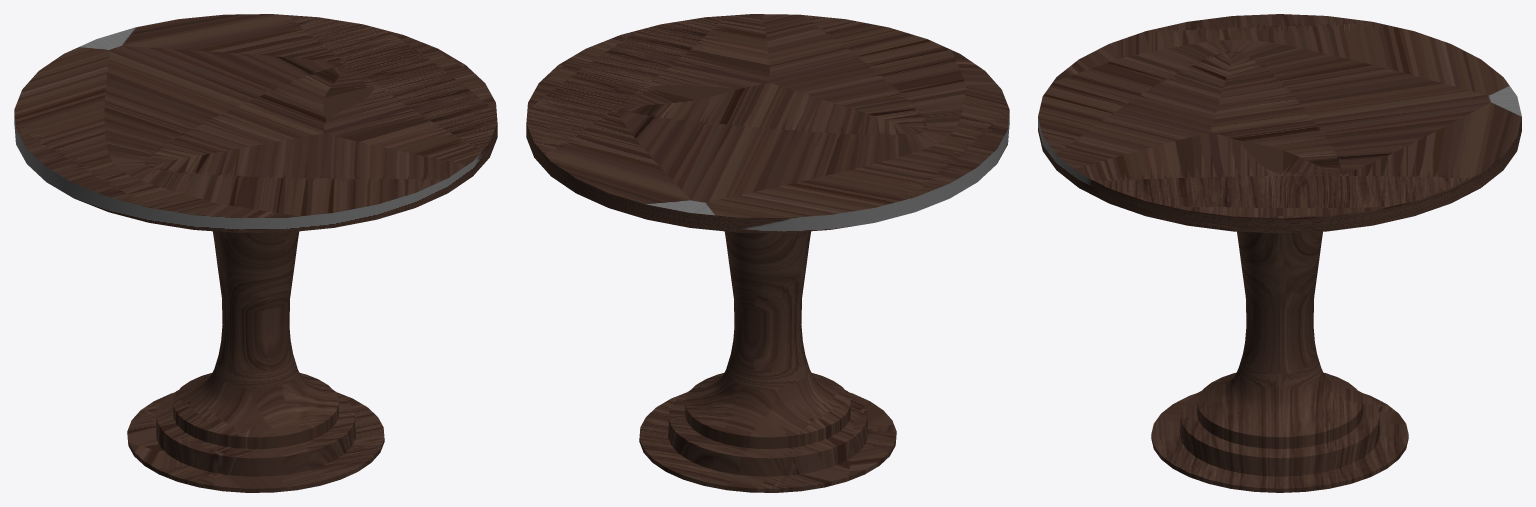
File: SmallTable.obj
3 views of the same model, side by side, from view 1: azimuth 30°, elevation 25°; view 2: azimuth 150°, elevation 25°; view 3: azimuth 270°, elevation 25° (orthographic).
Parts seen in each view (by area): view 1: Cylinder.001, Cylinder; view 2: Cylinder.001, Cylinder; view 3: Cylinder.001, Cylinder.
Boxes of the visible parts, <box> form: Cylinder.001: <box>14,14,497,233</box>; Cylinder: <box>127,231,384,492</box>; Cylinder.001: <box>526,14,1009,233</box>; Cylinder: <box>639,231,896,492</box>; Cylinder.001: <box>1038,14,1521,233</box>; Cylinder: <box>1151,231,1408,492</box>.
Bounding box in the file's own units: 1.12 × 0.824 × 1.12.
